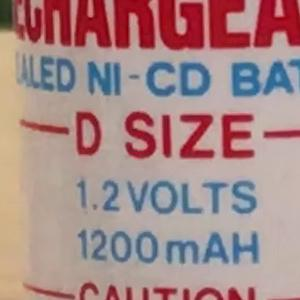keyword: (72, 52, 221, 105)
